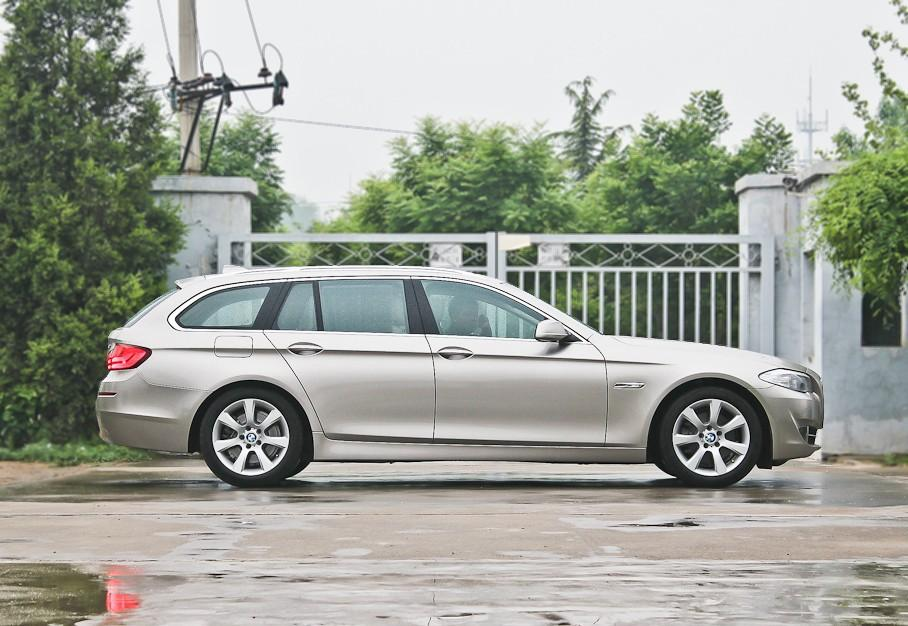Wagon: (96, 263, 825, 489)
